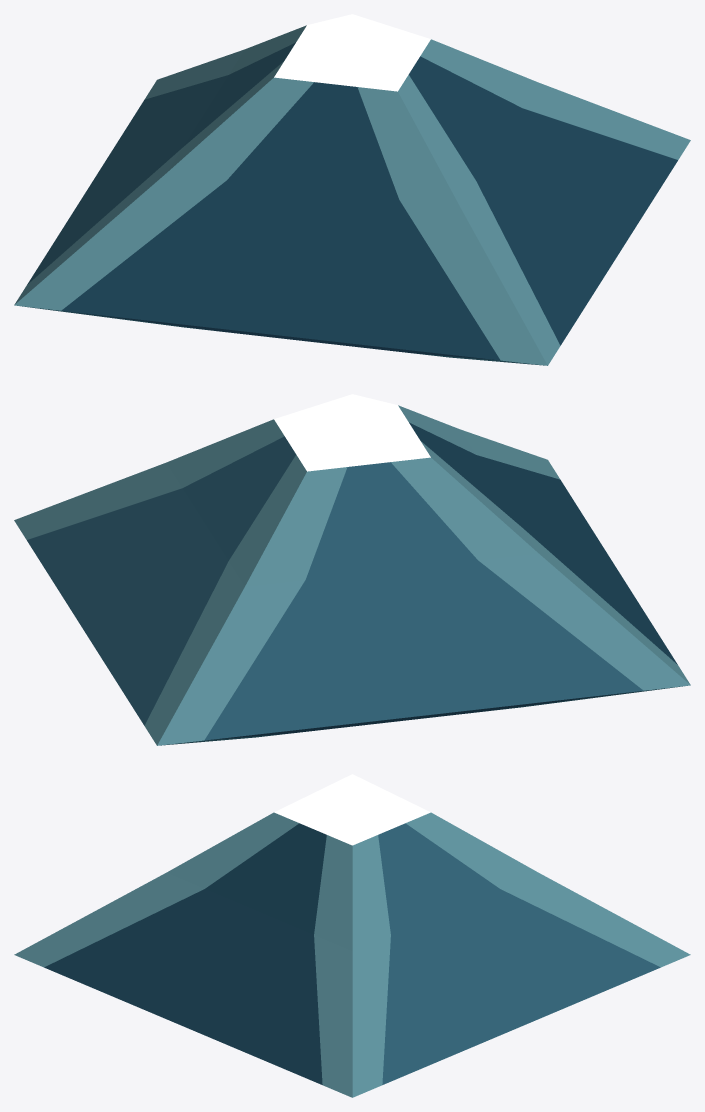
File: tyrian10-133.glb
3 views of the same model, one above another, from view 1: azimuth 30°, elevation 25°; view 2: azimuth 150°, elevation 25°; view 3: azimuth 270°, elevation 25° (orthographic). The views are drawn at different scales.
Visible parts, largest first — view 1: tyrian10-133; view 2: tyrian10-133; view 3: tyrian10-133.
Part boxes in pixels (box(x1,y1,x2,y2)): tyrian10-133: box(14, 14, 690, 365); tyrian10-133: box(14, 394, 690, 745); tyrian10-133: box(14, 774, 690, 1097).
Size of the model in its own units: 0.9333 by 0.4333 by 0.9333.
